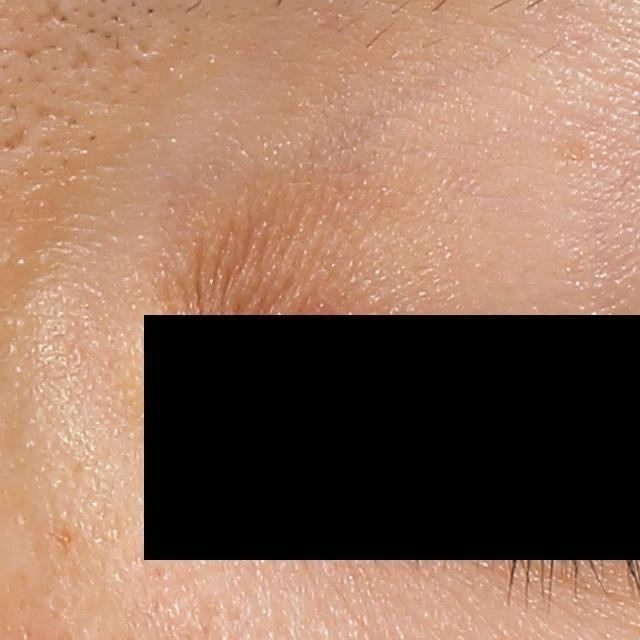atrophic_scar: (2, 126, 34, 154)
melasma: (50, 526, 73, 554)
